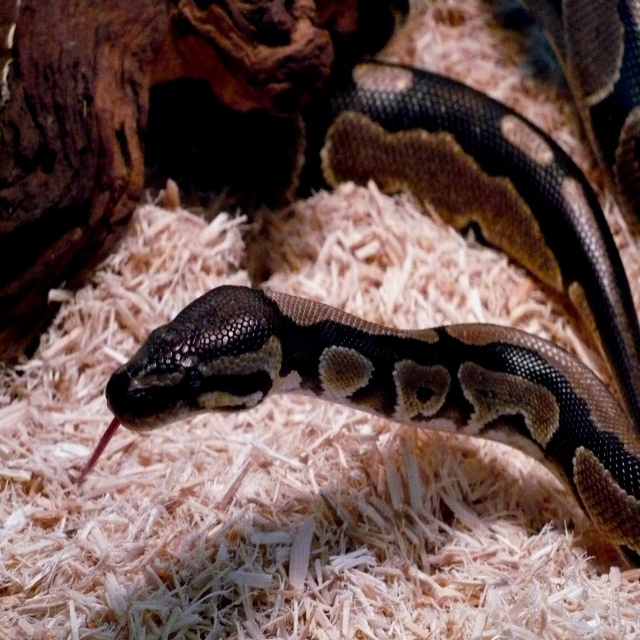Snake: (78, 0, 640, 582)
